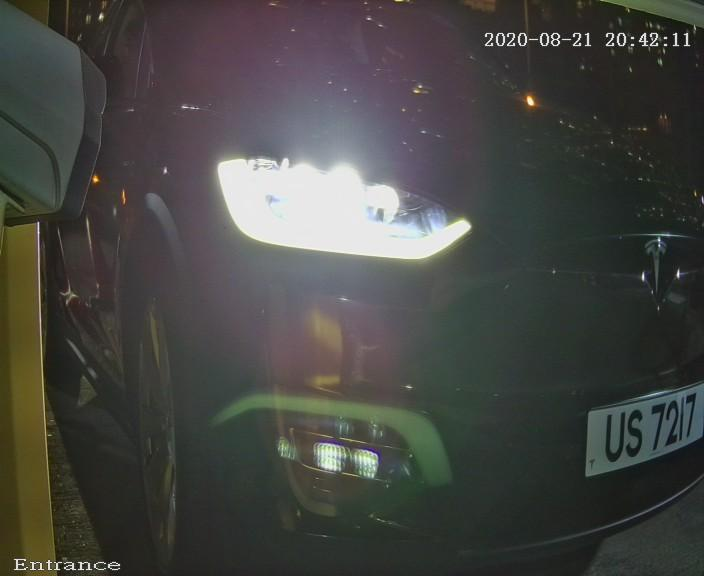License Plate: (573, 362, 704, 490)
